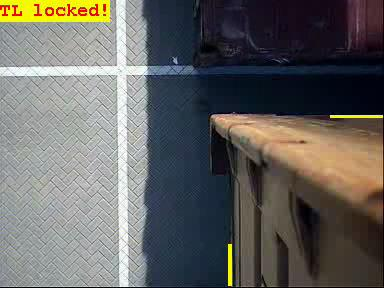groundmarker_2: (91, 130, 170, 189), (95, 12, 173, 71)
